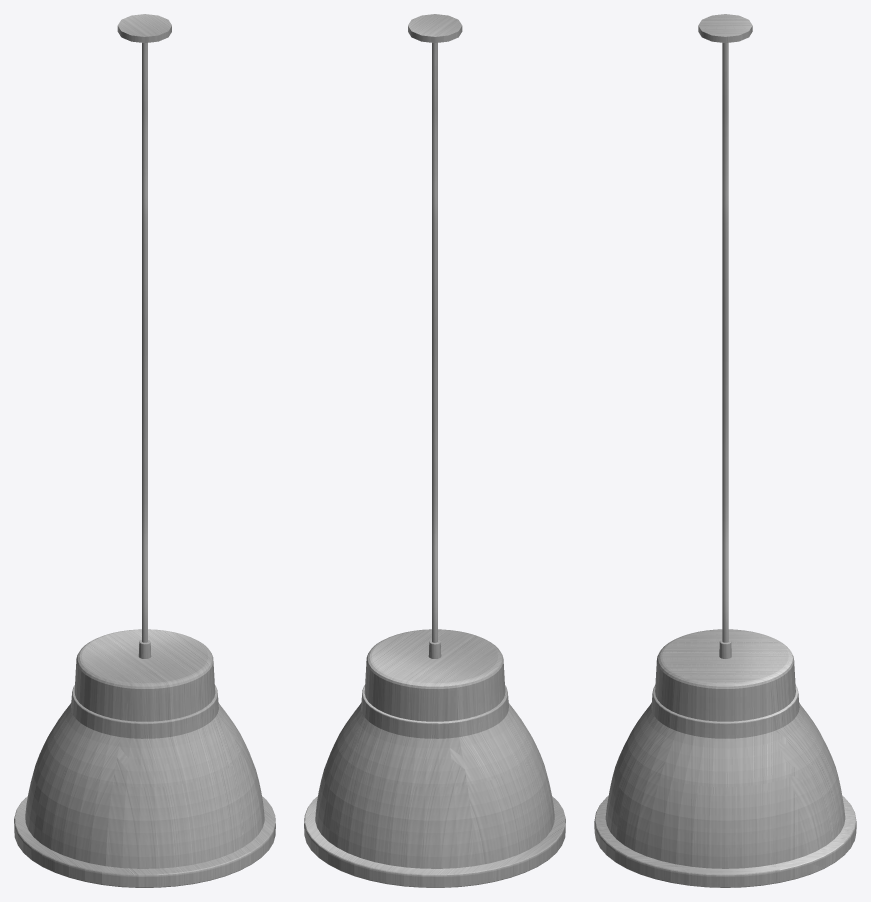
Rendered from Format8.fbx.
3 renders of one model, left to right at view 1: azimuth 30°, elevation 25°; view 2: azimuth 150°, elevation 25°; view 3: azimuth 270°, elevation 25°, orthographic.
Parts seen in each view (by area): view 1: Metal - Stainless Steel; view 2: Metal - Stainless Steel; view 3: Metal - Stainless Steel.
Boxes of the visible parts, x1,y1,x2,y2 form: Metal - Stainless Steel: [14, 14, 275, 887]; Metal - Stainless Steel: [304, 14, 565, 887]; Metal - Stainless Steel: [594, 14, 856, 887].
Size of the model in its own units: 0.3854 by 1.31 by 0.3854.
2 materials, 1 textured.
